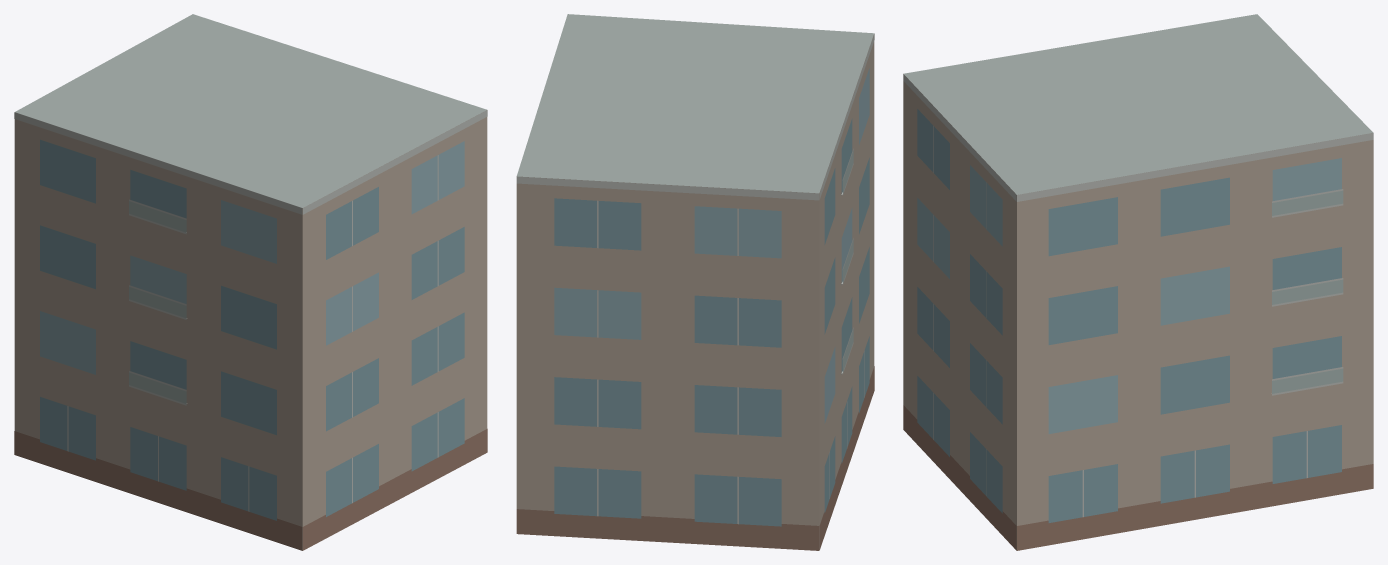
File: survey-upis-32584516.glb
3 renders of one model, left to right at view 1: azimuth 30°, elevation 25°; view 2: azimuth 150°, elevation 25°; view 3: azimuth 270°, elevation 25°, orthographic. The views are drawn at different scales.
Parts seen in each view (by area): view 1: survey-upis-32584516.tmp; view 2: survey-upis-32584516.tmp; view 3: survey-upis-32584516.tmp.
Part boxes in pixels (x1=…): survey-upis-32584516.tmp: x1=14, y1=14, x2=487, y2=550; survey-upis-32584516.tmp: x1=516, y1=14, x2=874, y2=550; survey-upis-32584516.tmp: x1=903, y1=14, x2=1373, y2=550.
Bounding box in the file's own units: 13.42 × 12.3 × 14.74.
